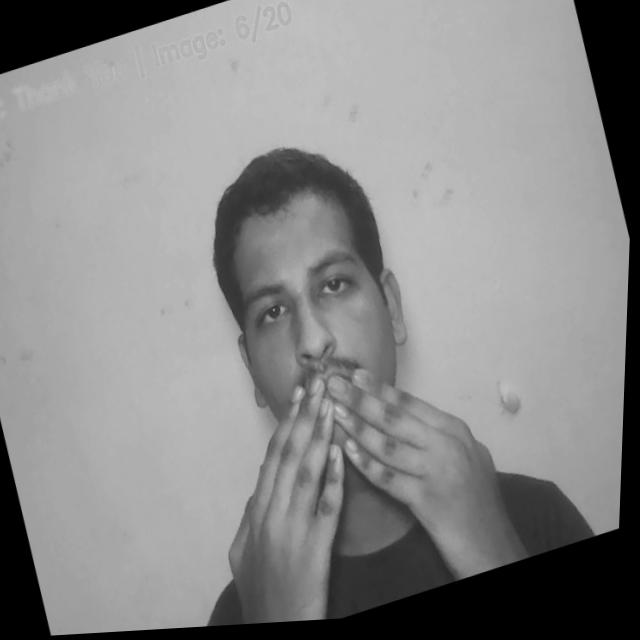Thank You: (185, 328, 530, 630)
